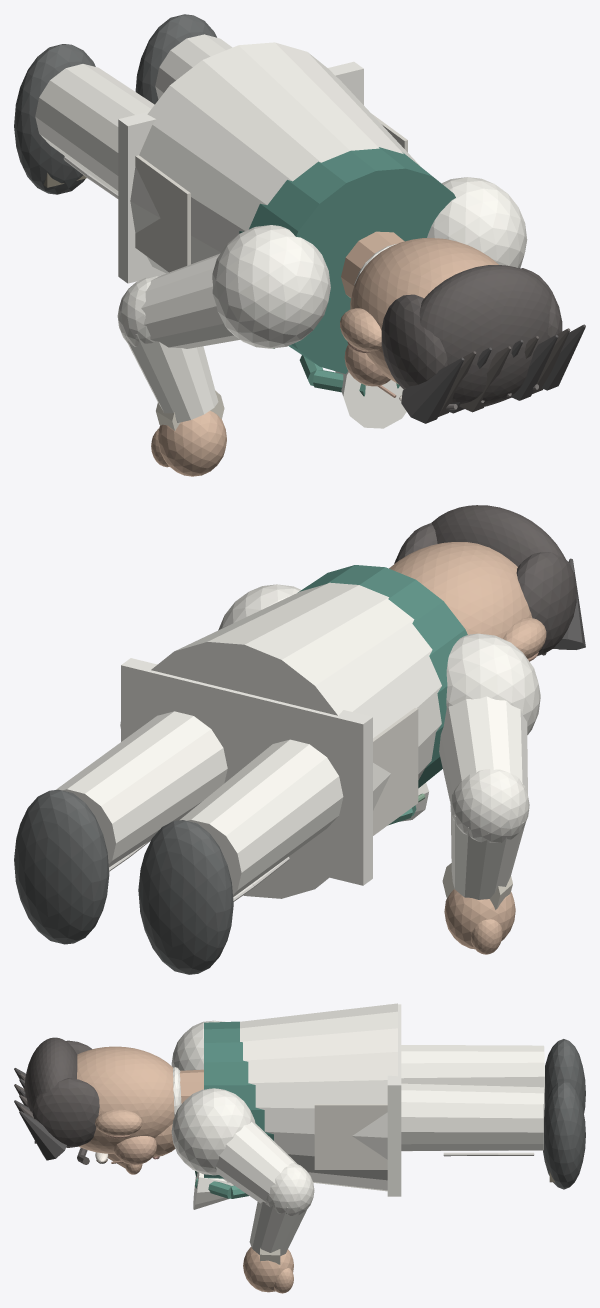
Rendered from imran_khan_fighter_v1.glb.
The picture shows the model from 3 angles, top to bottom: view 1: azimuth 30°, elevation 25°; view 2: azimuth 150°, elevation 25°; view 3: azimuth 270°, elevation 25°; orthographic projection. The views are drawn at different scales.
Visible parts, largest first — view 1: kurta_tunic_14, signature_waistcoat_18, thick_swept_back_hair_72, kurta_shoulder_31, shalwar_leg_2, recognizable_face_head_47, kurta_shoulder_38, upper_arm_sleeve_32, Peshawari_chappal_shoe_0, lower_arm_sleeve_34, tunic_hem_15, kurta_side_seam_16 (+14 smaller); view 2: kurta_tunic_14, tunic_hem_15, shalwar_leg_9, shalwar_leg_2, Peshawari_chappal_shoe_7, Peshawari_chappal_shoe_0, recognizable_face_head_47, upper_arm_sleeve_32, signature_waistcoat_18, kurta_shoulder_31, elbow_fabric_33, thick_swept_back_hair_72 (+10 smaller); view 3: kurta_tunic_14, shalwar_leg_9, recognizable_face_head_47, shalwar_leg_2, kurta_shoulder_38, kurta_side_seam_17, Peshawari_chappal_shoe_7, upper_arm_sleeve_39, signature_waistcoat_18, full_side_hair_74, thick_swept_back_hair_72, tunic_hem_15 (+11 smaller).
Part boxes in pixels (left/top/right/bottom): kurta_tunic_14: left=130, top=42, right=420, bottom=274; signature_waistcoat_18: left=239, top=147, right=455, bottom=373; thick_swept_back_hair_72: left=419, top=265, right=551, bottom=406; kurta_shoulder_31: left=212, top=225, right=330, bottom=348; shalwar_leg_2: left=35, top=64, right=154, bottom=194; recognizable_face_head_47: left=350, top=238, right=498, bottom=384; kurta_shoulder_38: left=427, top=177, right=527, bottom=268; upper_arm_sleeve_32: left=141, top=253, right=239, bottom=348; Peshawari_chappal_shoe_0: left=14, top=44, right=95, bottom=194; lower_arm_sleeve_34: left=124, top=333, right=218, bottom=422; tunic_hem_15: left=118, top=61, right=363, bottom=283; kurta_side_seam_16: left=135, top=155, right=190, bottom=272; kurta_tunic_14: left=151, top=582, right=441, bottom=898; tunic_hem_15: left=121, top=658, right=372, bottom=885; shalwar_leg_9: left=56, top=711, right=227, bottom=867; shalwar_leg_2: left=179, top=739, right=343, bottom=897; Peshawari_chappal_shoe_7: left=14, top=789, right=109, bottom=944; Peshawari_chappal_shoe_0: left=138, top=820, right=233, bottom=974; recognizable_face_head_47: left=389, top=542, right=532, bottom=638; upper_arm_sleeve_32: left=439, top=696, right=527, bottom=803; signature_waistcoat_18: left=298, top=565, right=467, bottom=788; kurta_shoulder_31: left=446, top=633, right=540, bottom=734; elbow_fabric_33: left=450, top=769, right=529, bottom=842; thick_swept_back_hair_72: left=431, top=505, right=565, bottom=566; kurta_tunic_14: left=240, top=1003, right=397, bottom=1191; shalwar_leg_9: left=401, top=1083, right=544, bottom=1151; recognizable_face_head_47: left=77, top=1046, right=174, bottom=1153; shalwar_leg_2: left=401, top=1045, right=544, bottom=1088; kurta_shoulder_38: left=171, top=1088, right=255, bottom=1175; kurta_side_seam_17: left=314, top=1104, right=387, bottom=1169; Peshawari_chappal_shoe_7: left=543, top=1080, right=585, bottom=1189; upper_arm_sleeve_39: left=215, top=1122, right=296, bottom=1203; signature_waistcoat_18: left=204, top=1021, right=273, bottom=1178; full_side_hair_74: left=31, top=1078, right=99, bottom=1147; thick_swept_back_hair_72: left=24, top=1037, right=77, bottom=1110; tunic_hem_15: left=387, top=1004, right=401, bottom=1196.
Bounding box in the file's own units: 1.86 × 1.5 × 3.36.
